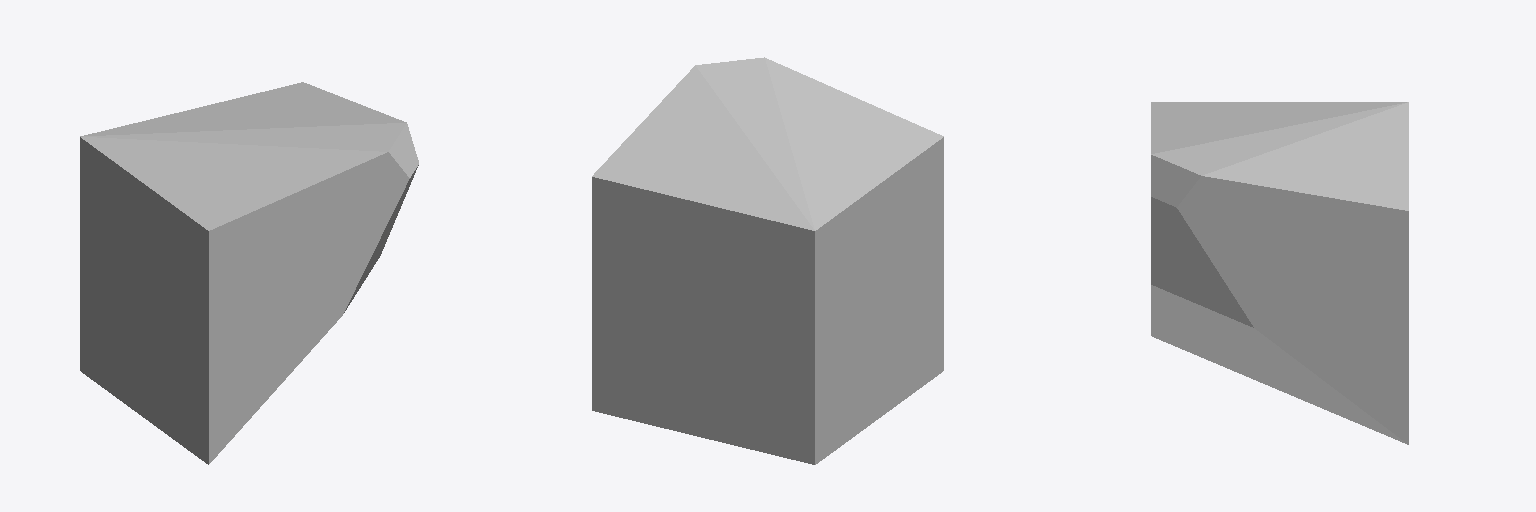
The model's file is Barrier_15_corner_in.obj.
3 renders of one model, left to right at view 1: azimuth 30°, elevation 25°; view 2: azimuth 150°, elevation 25°; view 3: azimuth 270°, elevation 25°, orthographic.
Visible parts, largest first — view 1: Barrier_15_corner_in; view 2: Barrier_15_corner_in; view 3: Barrier_15_corner_in.
Part boxes in pixels (x1,y1,x2,y2): Barrier_15_corner_in: (80, 82, 418, 464); Barrier_15_corner_in: (592, 57, 943, 464); Barrier_15_corner_in: (1151, 102, 1408, 444).
Size of the model in its own units: 1 by 1.15 by 1.